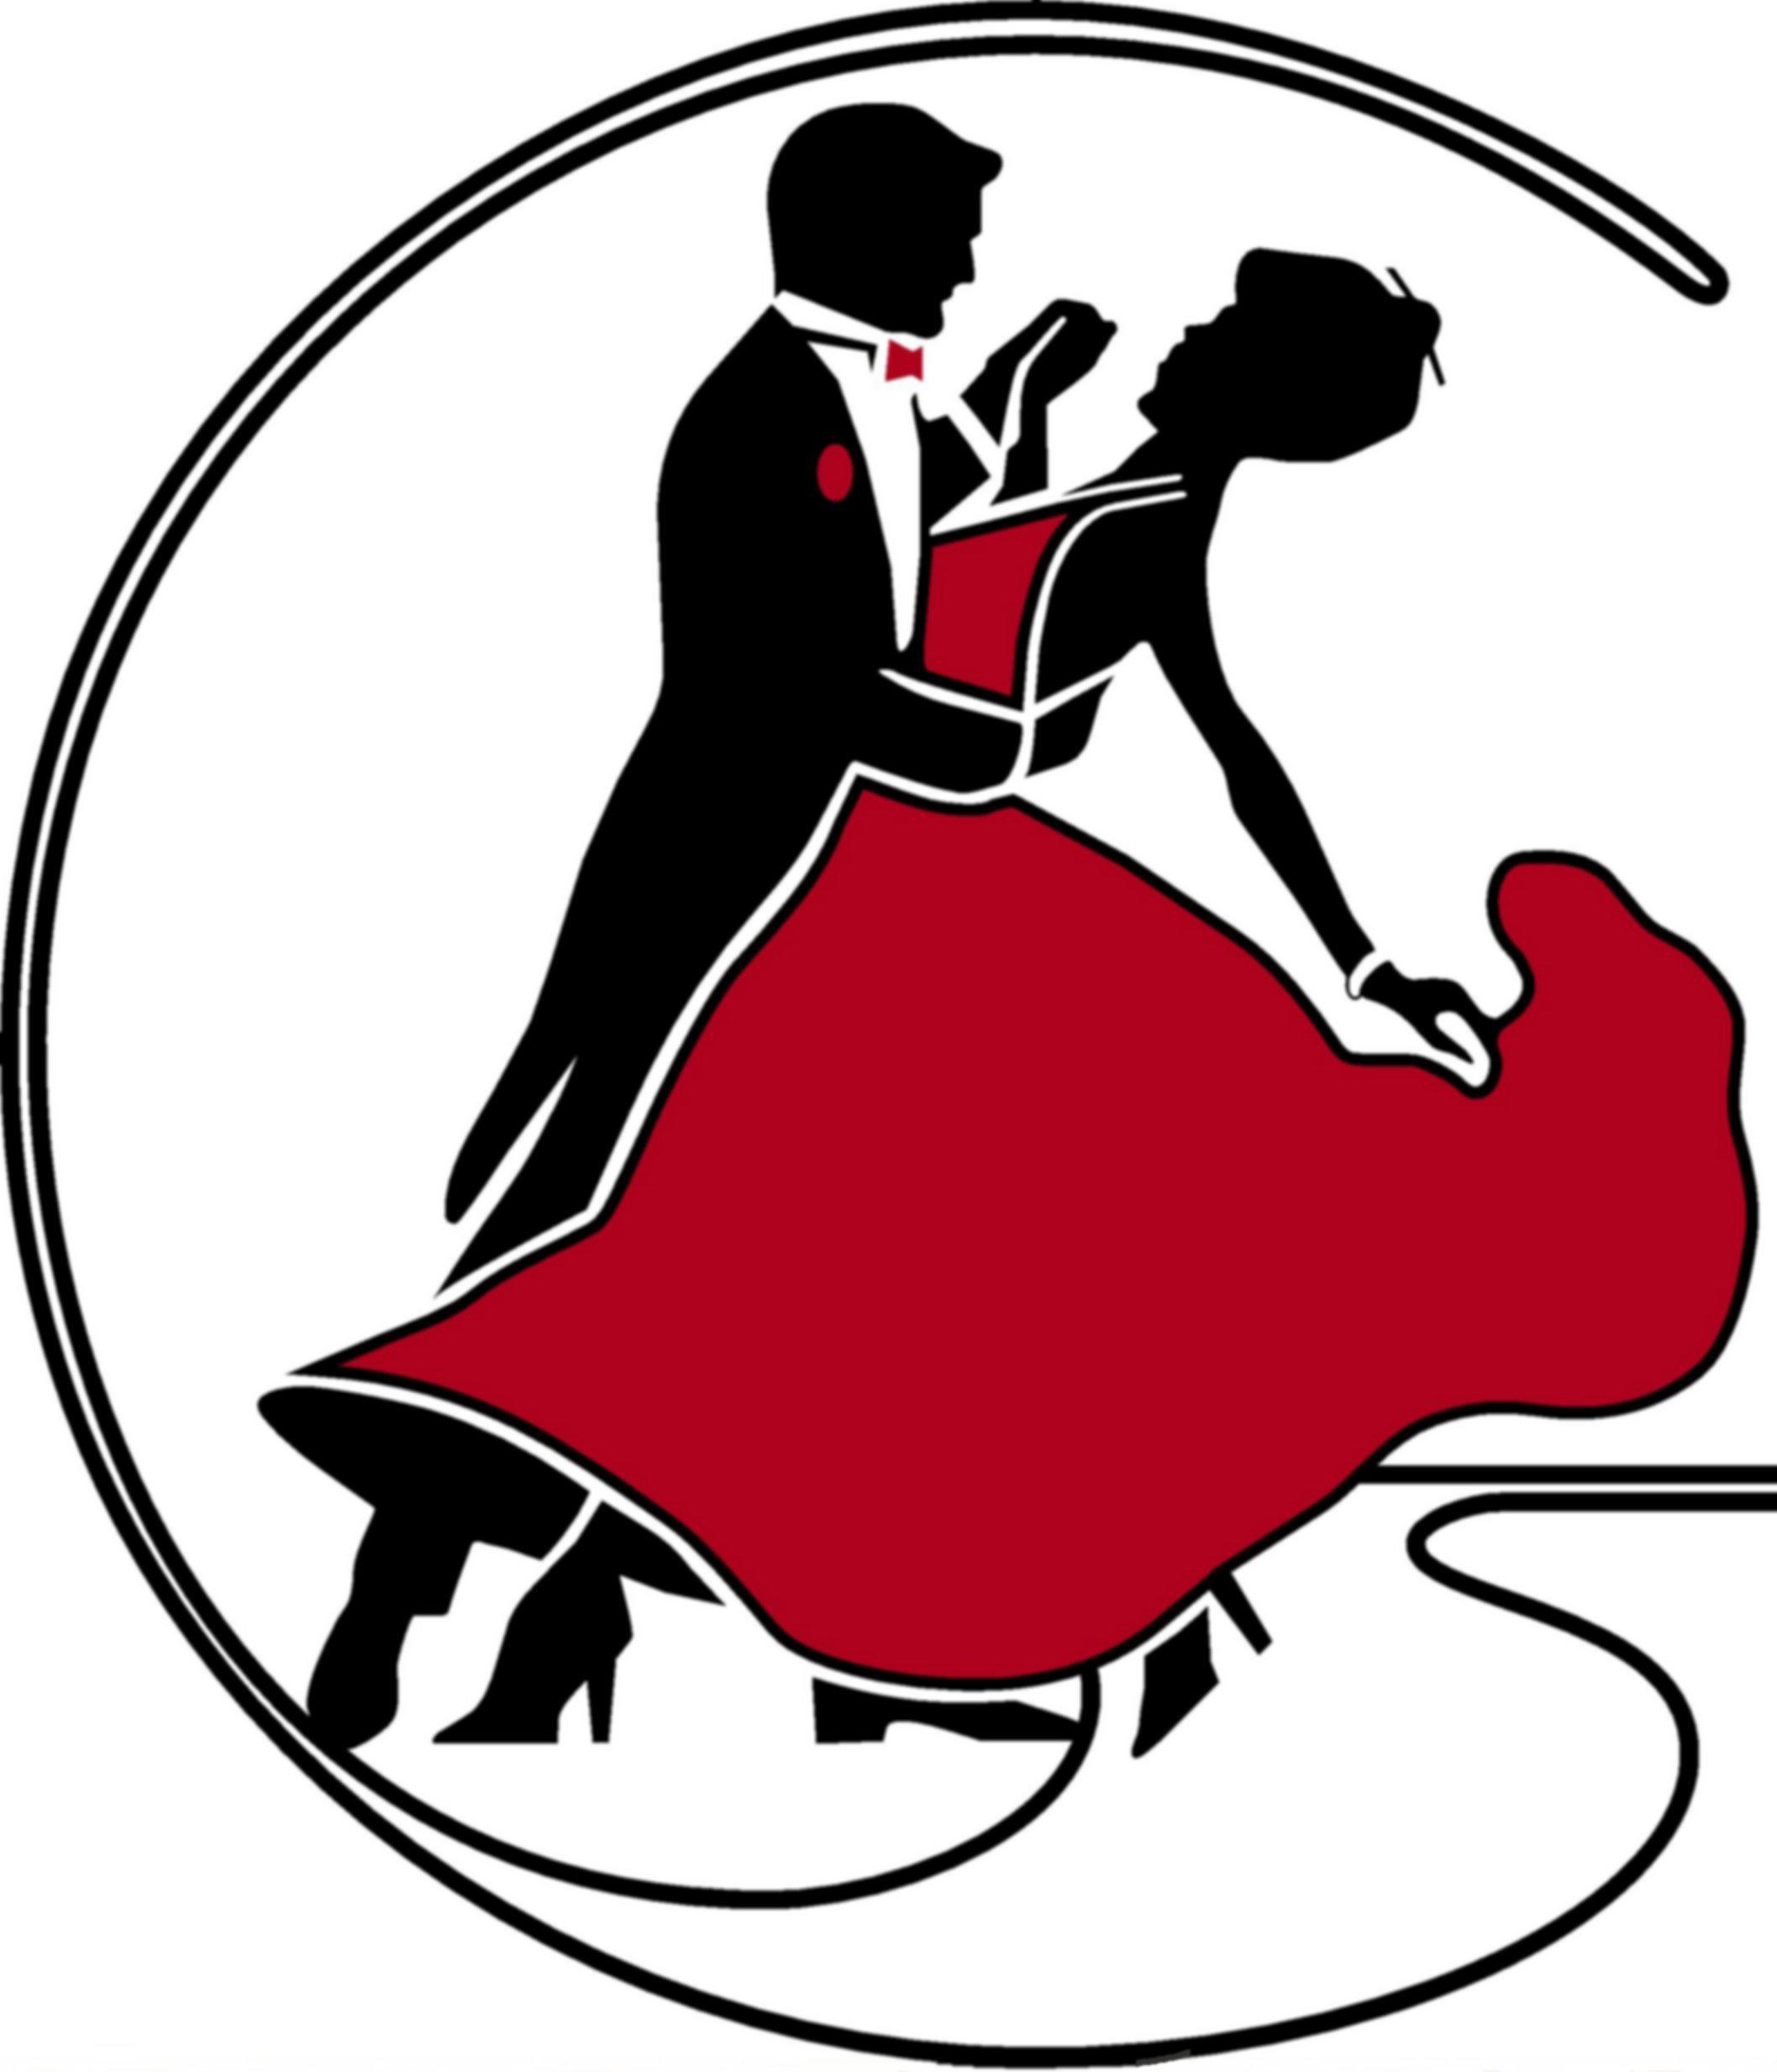person: (793, 240, 1478, 1804), (434, 78, 1012, 1747)
